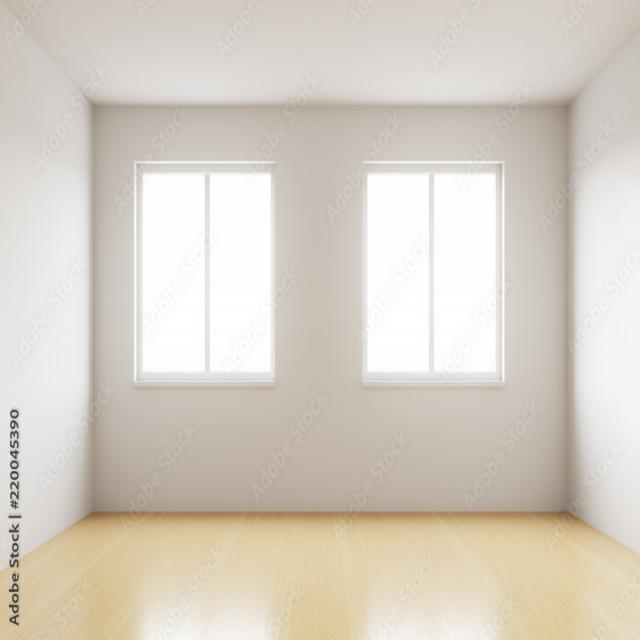Window: (366, 174, 496, 370), (143, 170, 270, 370)
